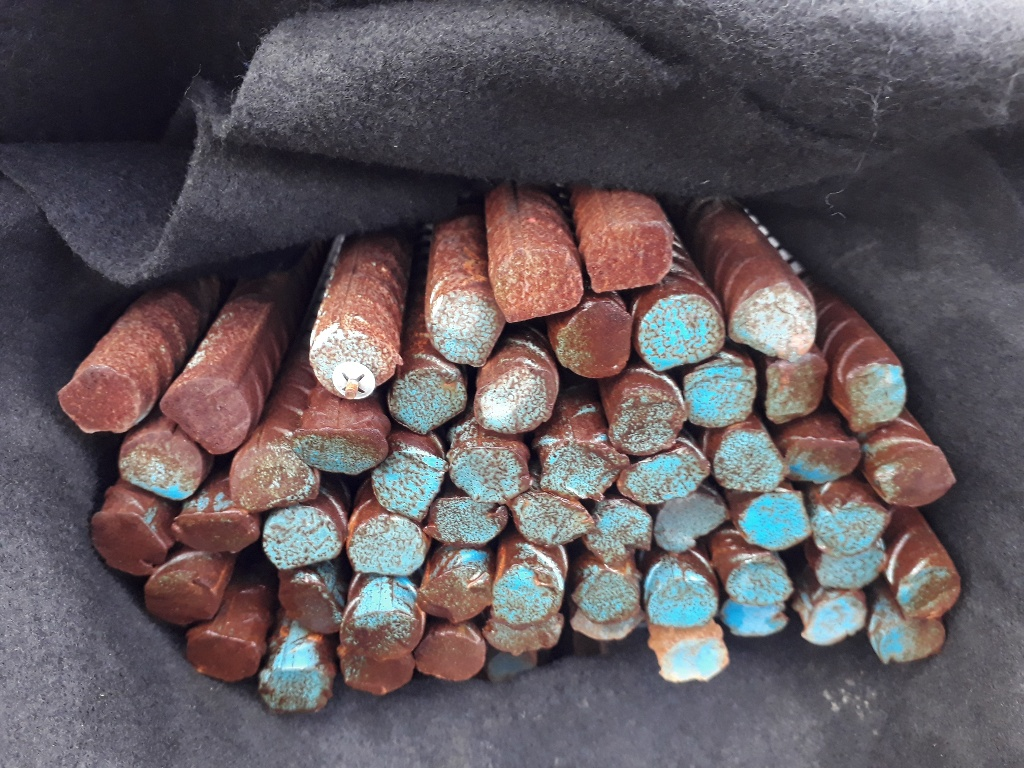dipstick: (639, 295, 725, 370), (312, 320, 395, 395), (732, 285, 815, 359), (497, 250, 581, 320), (168, 380, 248, 451), (122, 432, 202, 501), (590, 223, 673, 289), (59, 366, 140, 433), (562, 304, 632, 379), (263, 508, 343, 570), (610, 389, 687, 451), (350, 513, 429, 573), (233, 451, 319, 506), (344, 596, 421, 656), (684, 361, 755, 426), (816, 486, 887, 551), (622, 449, 710, 500), (882, 447, 957, 506), (542, 441, 621, 497), (452, 445, 537, 497), (716, 426, 784, 490), (739, 491, 812, 550), (431, 302, 500, 364), (89, 513, 164, 570), (873, 604, 945, 662), (143, 573, 220, 627), (393, 369, 463, 426), (376, 454, 439, 516), (296, 429, 385, 472), (421, 566, 490, 621), (588, 500, 651, 559), (493, 563, 557, 621), (848, 363, 905, 428), (282, 573, 342, 634), (656, 498, 725, 551), (767, 360, 825, 423), (516, 496, 590, 545), (188, 633, 258, 684), (175, 511, 256, 554), (648, 576, 715, 626), (900, 565, 959, 620), (260, 666, 329, 713), (421, 630, 484, 681), (787, 438, 860, 482), (431, 500, 505, 543), (660, 641, 729, 684), (343, 657, 413, 696), (580, 573, 638, 620), (726, 561, 790, 603), (804, 597, 865, 641), (815, 553, 887, 587), (484, 623, 560, 654), (725, 603, 784, 635), (572, 623, 633, 642)
